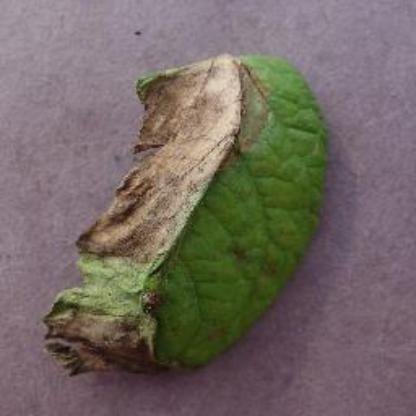Late-Blight: (41, 50, 337, 380)
